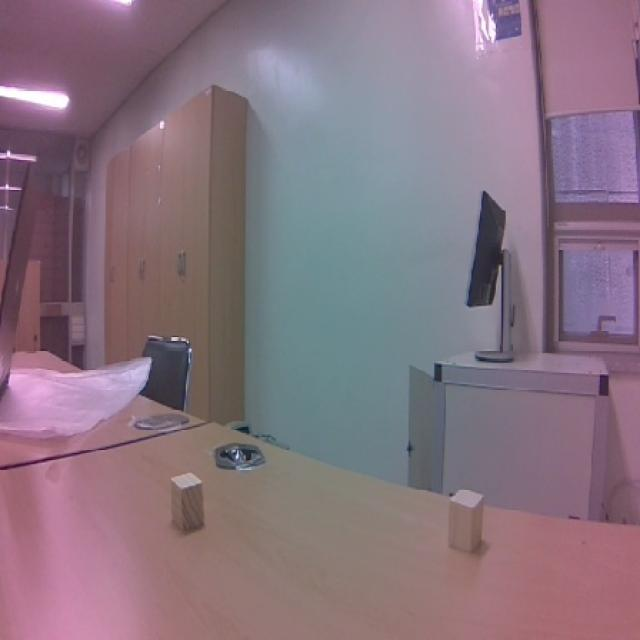obstacle: (156, 463, 221, 543), (437, 478, 495, 562)
